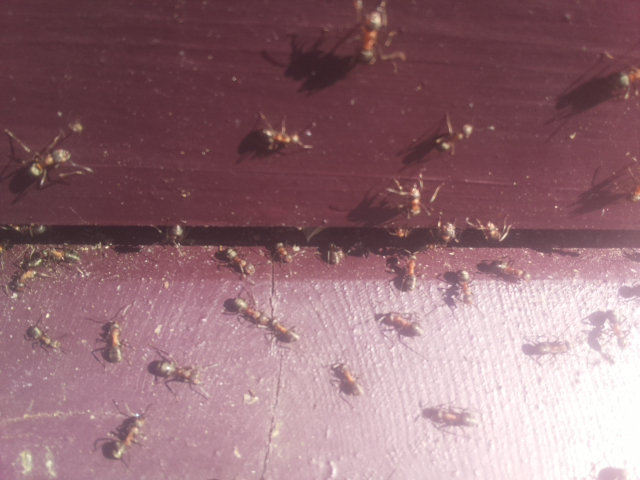ant: (16, 140, 82, 196), (230, 294, 295, 345), (349, 0, 391, 73), (106, 408, 152, 463), (248, 122, 314, 158), (139, 354, 204, 389), (416, 400, 483, 432), (327, 352, 364, 405), (429, 118, 478, 158), (473, 256, 532, 286), (216, 243, 260, 282), (374, 307, 427, 339), (18, 321, 67, 354), (461, 213, 514, 243), (399, 176, 429, 220), (104, 317, 127, 363), (517, 339, 574, 357), (454, 263, 476, 308), (399, 250, 419, 298), (617, 58, 637, 103), (270, 239, 297, 270), (437, 218, 462, 247)
